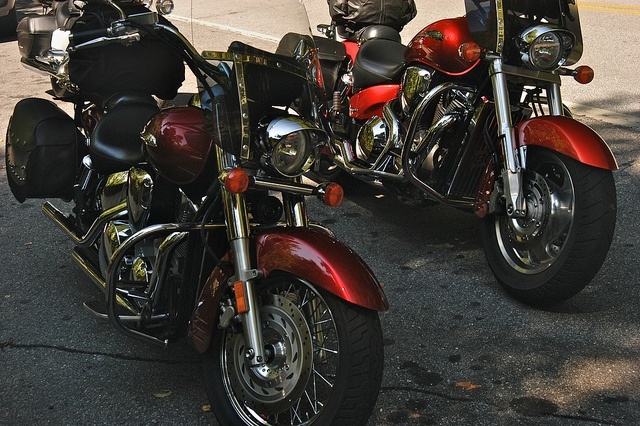non-vehicle: (5, 0, 390, 426), (267, 0, 619, 304), (12, 0, 176, 101)
